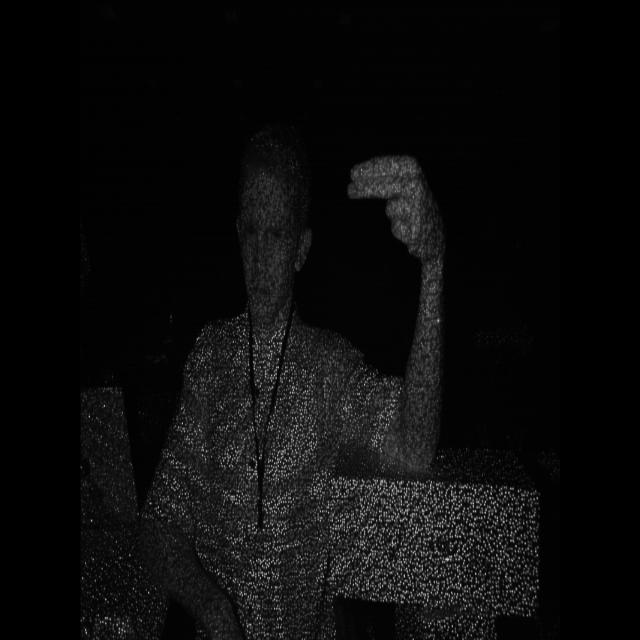H: (341, 138, 451, 270)
